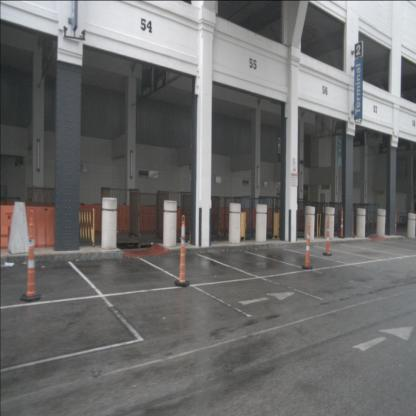movable_object-barrier: (0, 206, 56, 248), (81, 203, 112, 234), (111, 204, 144, 233), (139, 205, 165, 233), (251, 206, 274, 232), (218, 206, 238, 234), (235, 207, 254, 233)
movable_object-trafficcone: (20, 210, 42, 301), (174, 215, 190, 287), (302, 215, 313, 269), (322, 215, 333, 256), (338, 206, 345, 238), (350, 206, 356, 238), (394, 210, 398, 236)
